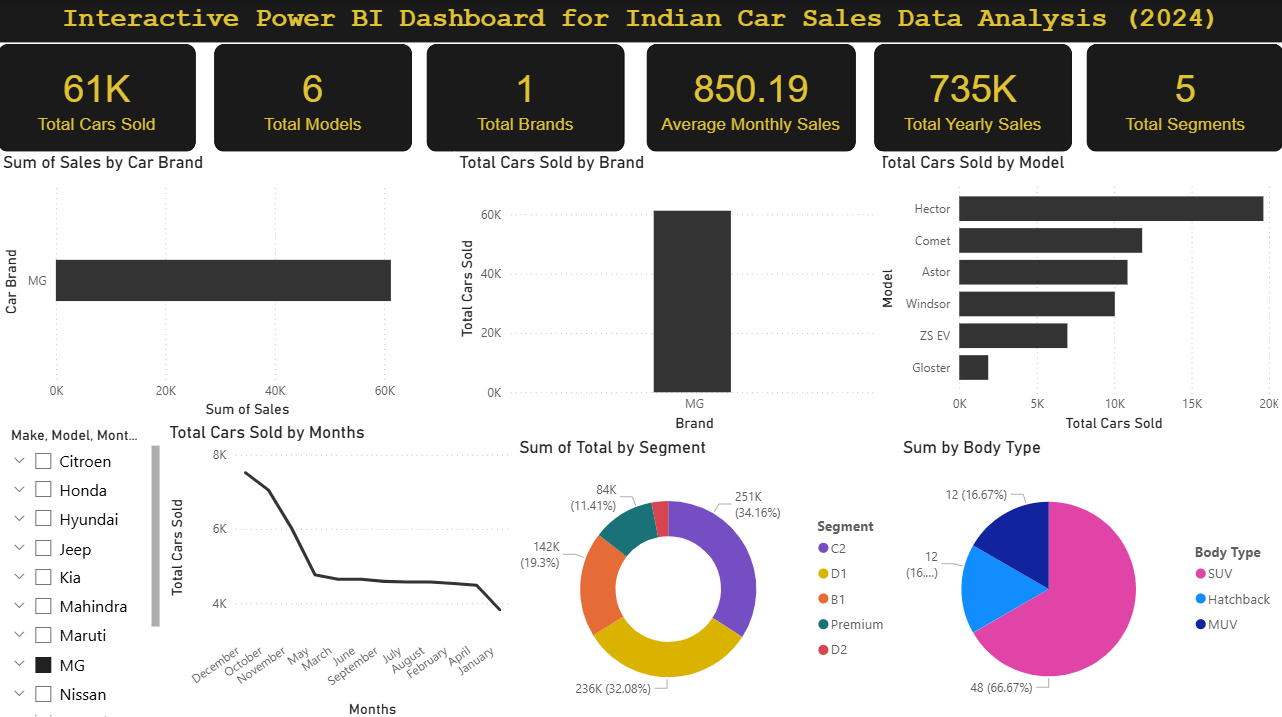

What the dashboard file says about the page in this screenshot:
{"tool":"powerbi","page":{"name":"Page 1","canvas":[1280,720],"ordinal":0},"visuals":[{"type":"card","fields":{"Values":["Sheet1.Total Cars Sold"]},"box":[0,44.8,196.5,107],"z":0},{"type":"card","fields":{"Values":["Sheet1.Total Models"]},"box":[215.2,44.8,196.5,107],"z":1},{"type":"card","fields":{"Values":["Sheet1.Total Brands"]},"box":[426.7,44.8,196.5,107],"z":2},{"type":"card","fields":{"Values":["Car Sales.Average Monthly Sales"]},"box":[645.6,44.8,207.7,107],"z":3},{"type":"card","fields":{"Values":["Car Sales.Total Yearly Sales"]},"box":[872,44.8,196.5,107],"z":4},{"type":"card","fields":{"Values":["Car Sales.Total Segments"]},"box":[1083.4,44.8,196.5,107],"z":5},{"type":"clusteredBarChart","fields":{"Category":["Car Sales.Make"],"Y":["Sum(Car Sales.Sales)"]},"box":[0,151.8,454,269.9],"z":6},{"type":"pieChart","fields":{"Category":["Car Sales.Body Type"],"Y":["CountNonNull(Car Sales.Total)"]},"box":[895.7,435.4,384.4,284.9],"z":7},{"type":"donutChart","fields":{"Category":["Car Sales.Segment"],"Y":["Sum(Car Sales.Total)"]},"box":[513.8,435.4,381.9,284.9],"z":8},{"type":"barChart","fields":{"Category":["Car Sales.Model"],"Y":["Car Sales.Total Cars Sold"]},"box":[872,151.8,408,283.6],"z":10},{"type":"slicer","fields":{"Values":["Car Sales.Make","Car Sales.Model","Car Sales.Months","Car Sales.Body Type","Car Sales.Segment"]},"box":[0,420.5,165.4,299.8],"z":11},{"type":"lineChart","fields":{"Y":["Car Sales.Total Cars Sold"],"Category":["Car Sales.Months"]},"box":[165.4,420.5,348.3,299.8],"z":12},{"type":"lineClusteredColumnComboChart","fields":{"Y":["Car Sales.Total Cars Sold"],"Category":["Car Sales.Make"]},"box":[454,151.8,426.7,283.6],"z":13},{"type":"textbox","box":[0,0,1280,43.5],"z":14}]}

Visuals, with their boxes in screenshot pixels (x1, y1, x2, y2), scaled from the page's 1280x720 canvas onto the 1282x717 screenshot:
card - Sheet1.Total Cars Sold: region(0, 45, 197, 151)
card - Sheet1.Total Models: region(216, 45, 412, 151)
card - Sheet1.Total Brands: region(427, 45, 624, 151)
card - Car Sales.Average Monthly Sales: region(647, 45, 855, 151)
card - Car Sales.Total Yearly Sales: region(873, 45, 1070, 151)
card - Car Sales.Total Segments: region(1085, 45, 1281, 151)
clusteredBarChart - Car Sales.Make x Sum(Car Sales.Sales): region(0, 151, 455, 420)
pieChart - Car Sales.Body Type x CountNonNull(Car Sales.Total): region(897, 434, 1281, 716)
donutChart - Car Sales.Segment x Sum(Car Sales.Total): region(515, 434, 897, 716)
barChart - Car Sales.Model x Car Sales.Total Cars Sold: region(873, 151, 1281, 434)
slicer - Car Sales.Make x Car Sales.Model: region(0, 419, 166, 716)
lineChart - Car Sales.Total Cars Sold x Car Sales.Months: region(166, 419, 515, 716)
lineClusteredColumnComboChart - Car Sales.Total Cars Sold x Car Sales.Make: region(455, 151, 882, 434)
textbox: region(0, 0, 1281, 43)
